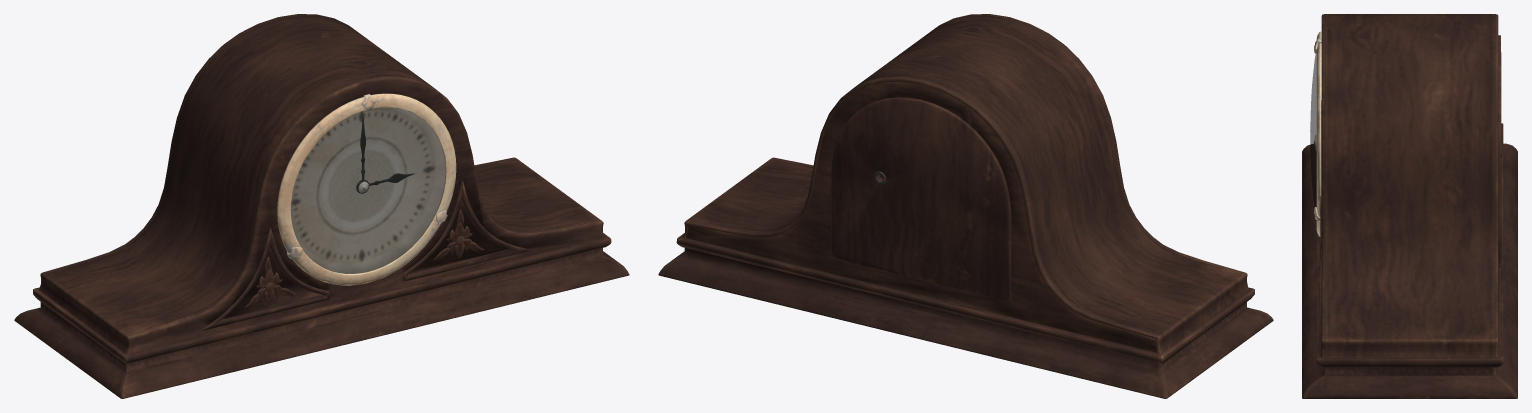
The model's file is mantel_clock_01.glb.
3 renders of one model, left to right at view 1: azimuth 30°, elevation 25°; view 2: azimuth 150°, elevation 25°; view 3: azimuth 270°, elevation 25°, orthographic.
Parts seen in each view (by area): view 1: mantel_clock_01, mantel_clock_01_glass; view 2: mantel_clock_01; view 3: mantel_clock_01, mantel_clock_01_glass.
Boxes of the visible parts, bbox=[...] form: mantel_clock_01: bbox=[14, 14, 629, 398]; mantel_clock_01_glass: bbox=[291, 108, 445, 273]; mantel_clock_01: bbox=[658, 14, 1273, 398]; mantel_clock_01: bbox=[1302, 14, 1517, 398]; mantel_clock_01_glass: bbox=[1310, 53, 1316, 206].
Bounding box in the file's own units: 0.3423 × 0.1604 × 0.126.
2 materials, 2 textured.
